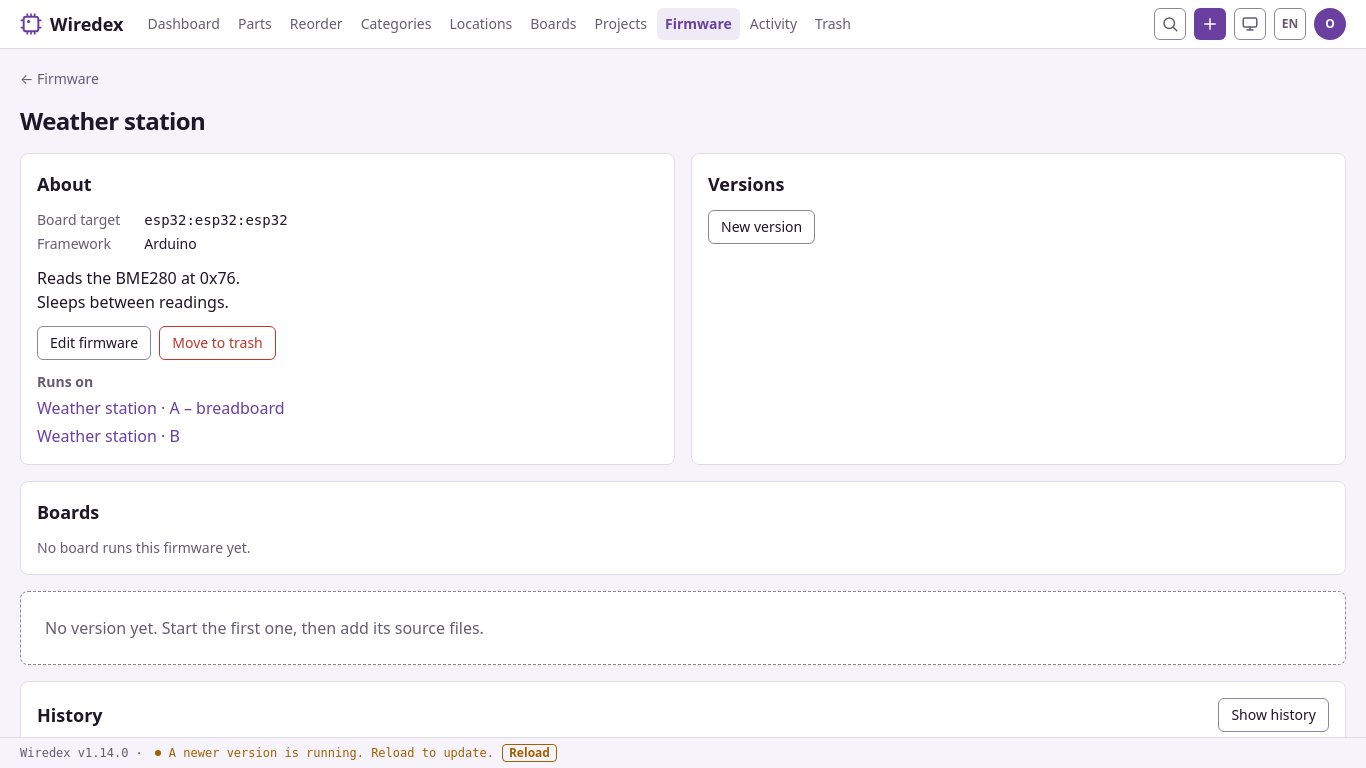
Scenario: FirmwarePage › deletes the firmware after asking, and lands on the list without it
The image size is (1366, 768).
What coordinates should you click on to do the following:
click the button "Move to trash"
I would click on:
 (218, 343)
Its box is [159,326,276,360].
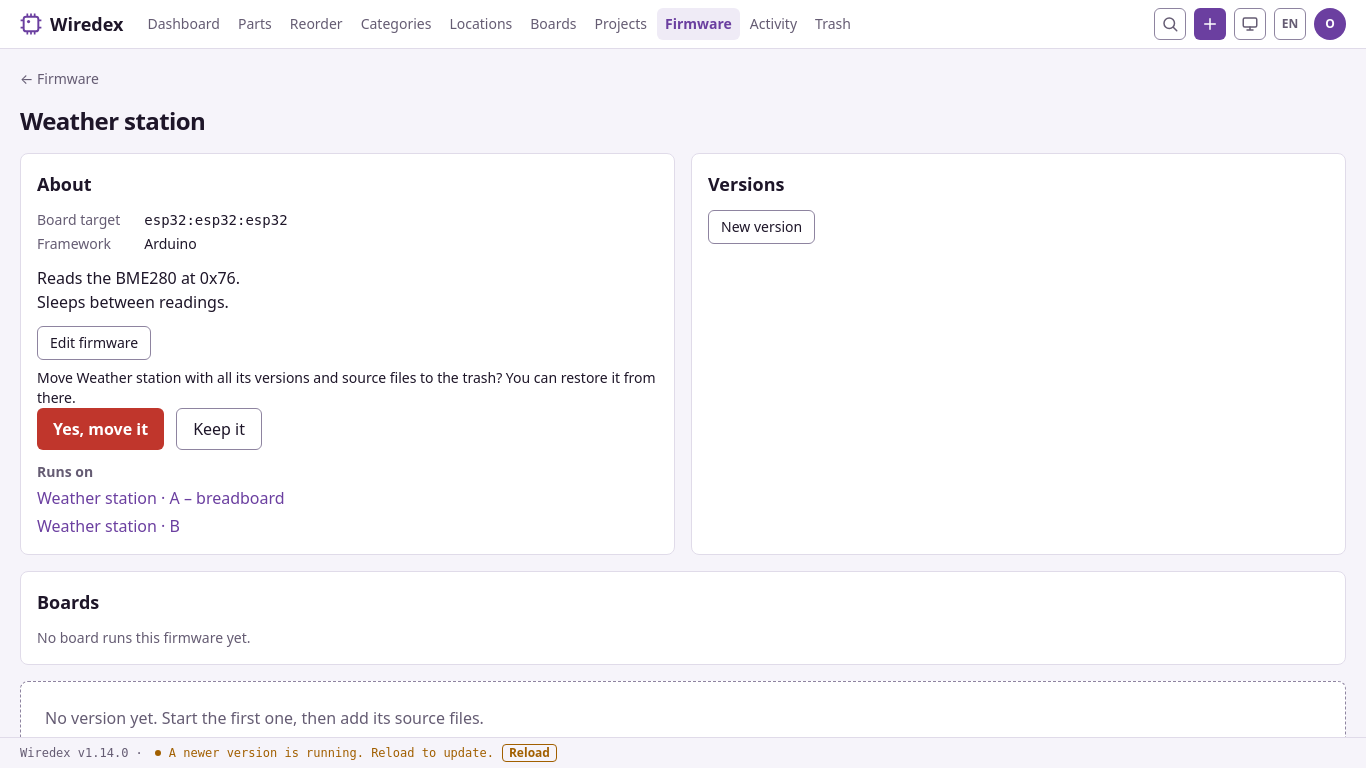
What coordinates should you click on to do the following:
click the button "Yes, move it"
I would click on:
 (101, 429)
Its box is [37,408,164,450].
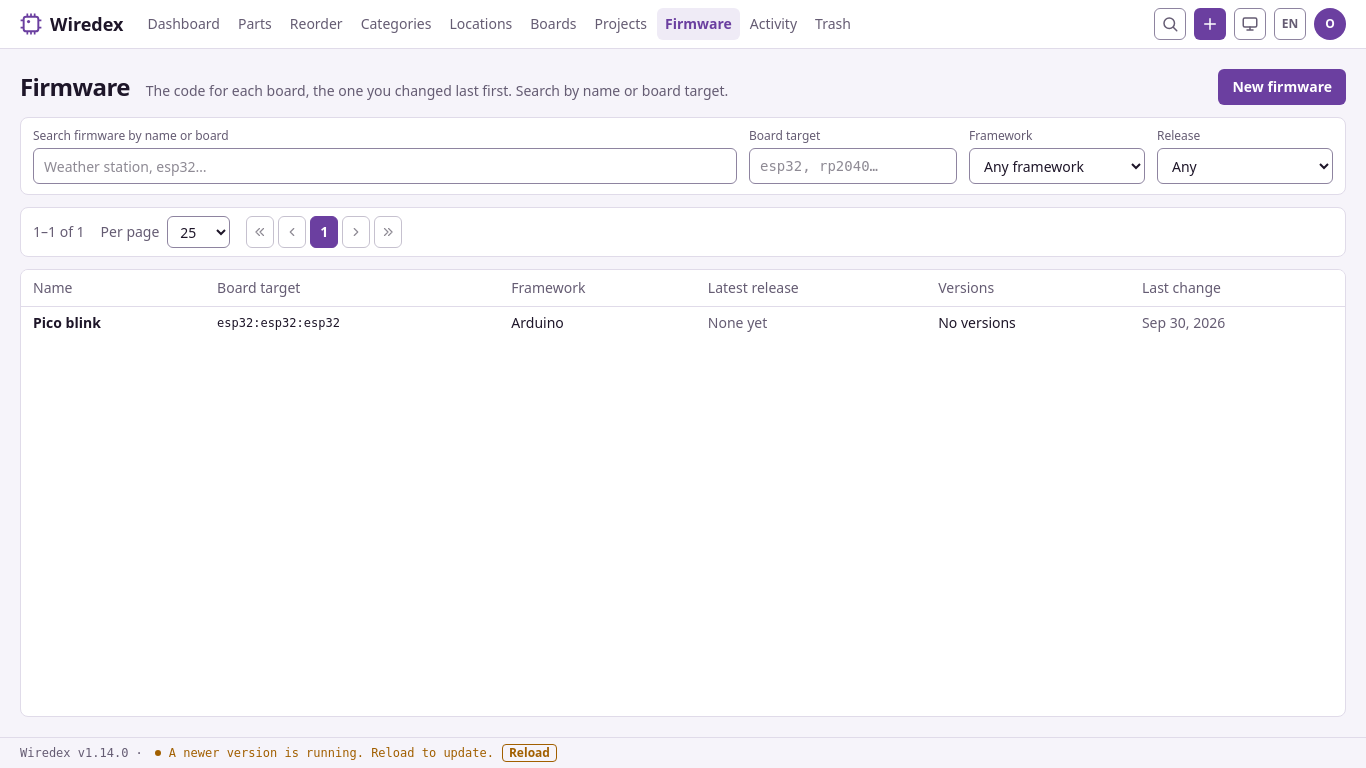
Result: the heading "Firmware" is shown at [20,71,130,103]
Result: the link "Pico blink" is shown at [33,313,101,332]
